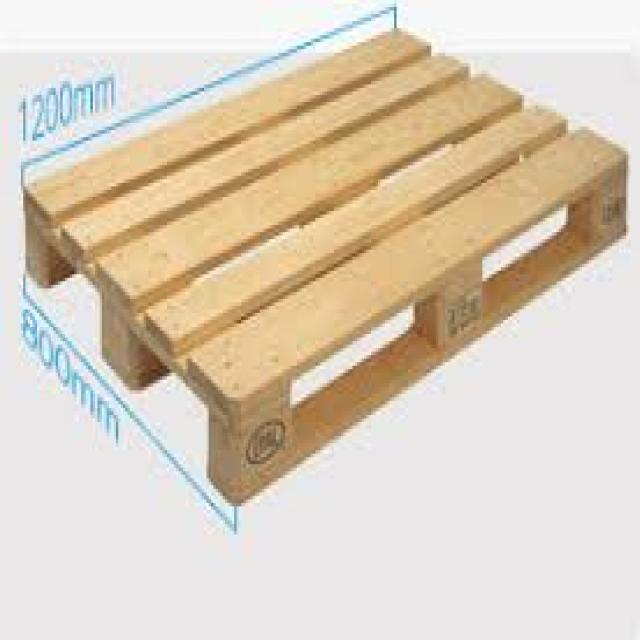Wooden-Pallets: (20, 9, 631, 517)
